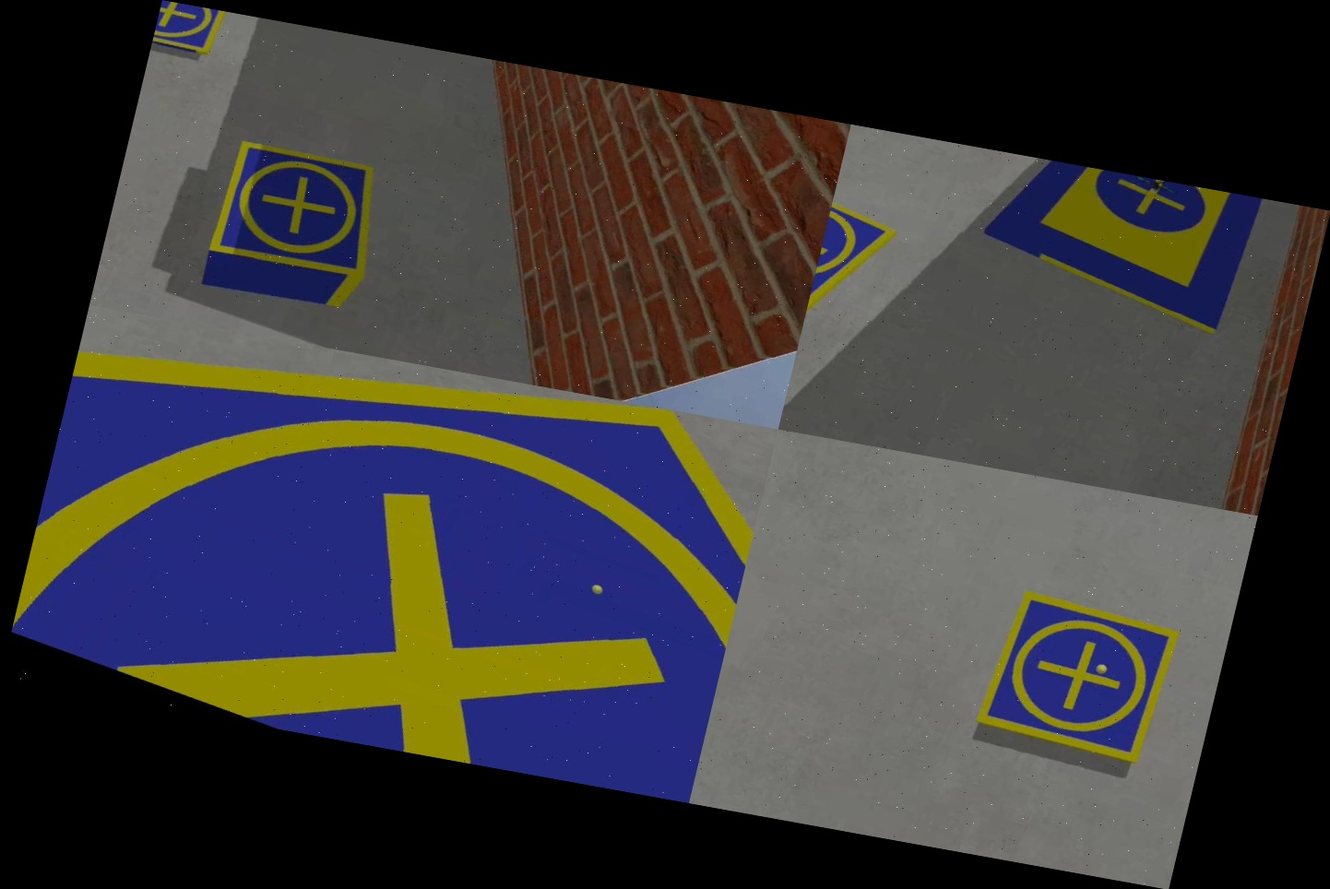large_base: (968, 151, 1289, 344)
small_base: (0, 305, 778, 802), (956, 574, 1205, 786), (185, 117, 420, 309), (803, 180, 903, 334), (148, 0, 231, 71)
